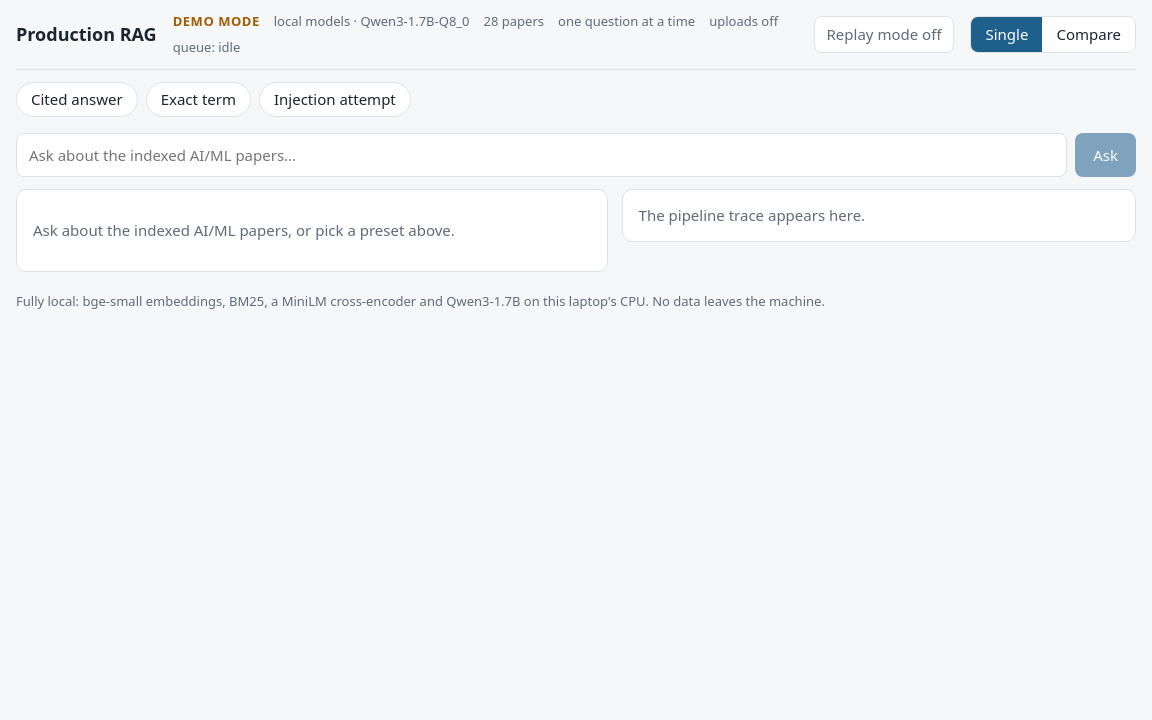
it: replay mode (the fallback when the model is slow or down) › plays a recorded run step by step and labels it replay, never live
Expected: the text "DEMO MODE" is shown, [173,12,260,32]
Click the button "Replay mode off" at {"x": 884, "y": 35}, box [814,16,954,53]
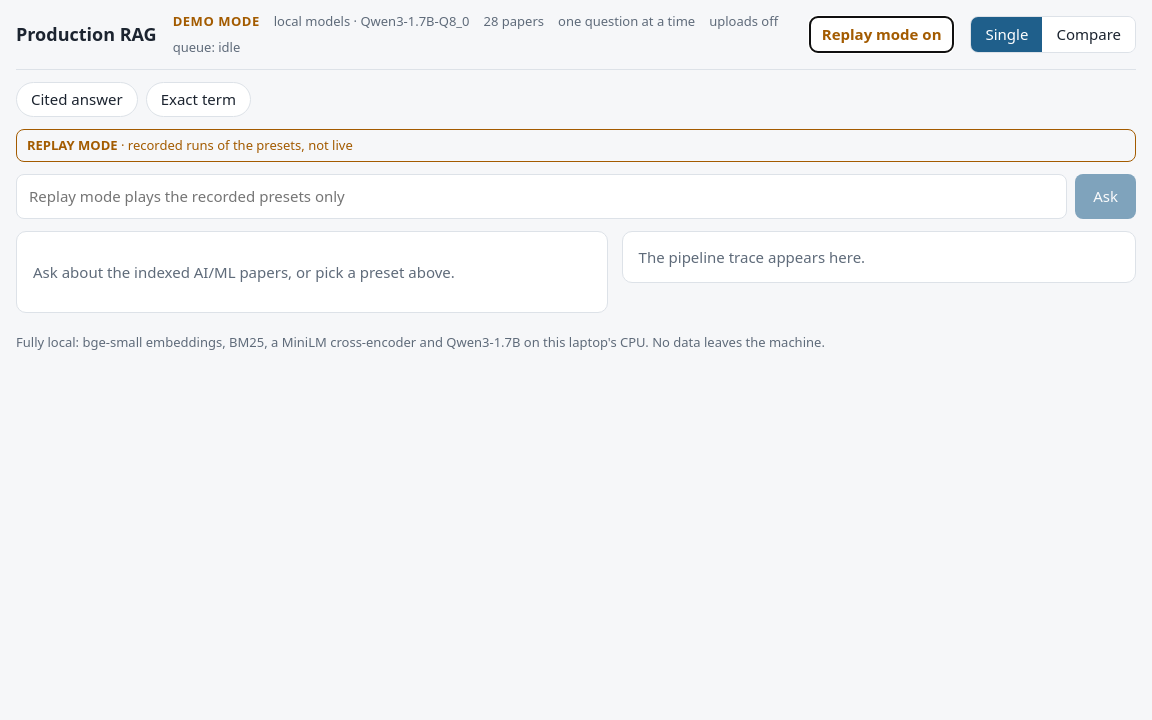
Expected: the message with test id "replay-bar" shows "REPLAY MODE", [27,136,118,154]
Expected: the field named "Question" is disabled, [16,174,1067,218]
Expected: the button "Injection attempt" is gone
Click the button "Cited answer" at {"x": 77, "y": 99}, box [16,82,138,116]
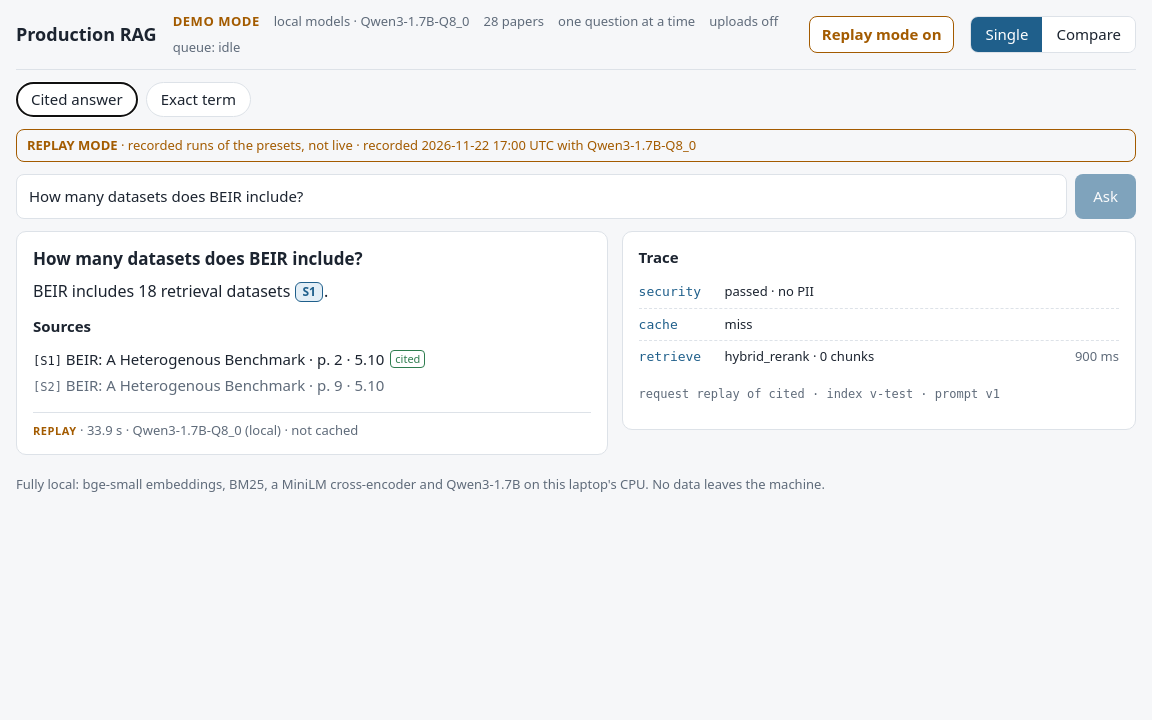
Expected: the element with test id "status-line" shows "replay", [33,422,77,438]
Expected: the list item with test id "step-retrieve" is shown, [639,347,1119,365]
Expected: the message with test id "replay-bar" shows "recorded 2026-11-22 17:00 UTC with Qwen3-1.7B-Q8_0", [16,128,1136,162]
